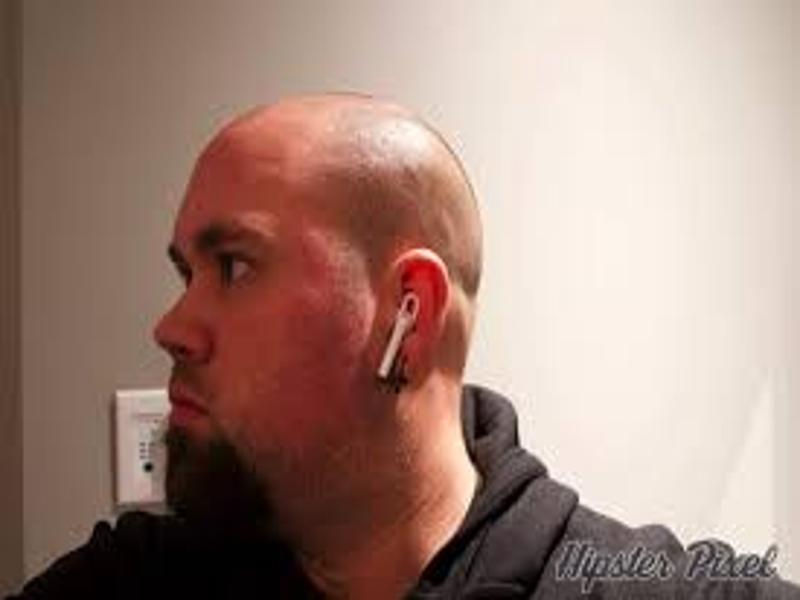headphone: (373, 291, 420, 377)
